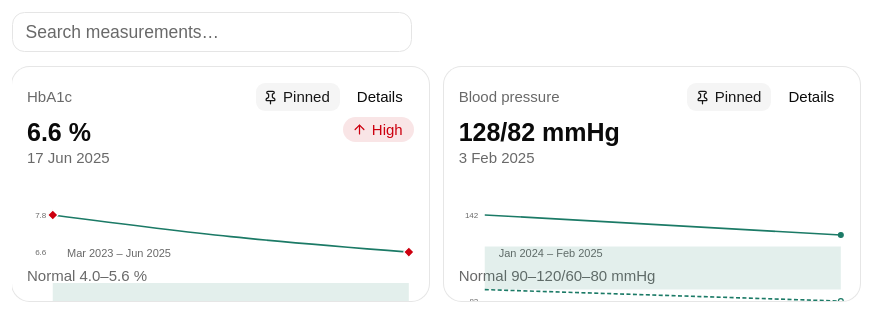
Test case: PatientTrends › pins charts to the overview, keeping the default pins on first use
Later steps or results of the test are not shown.
What coordinates should you click on to do the following:
click the button with aria-label "Pin to overview: HbA1c"
I would click on:
 (298, 97)
Its box is [255, 82, 341, 112].
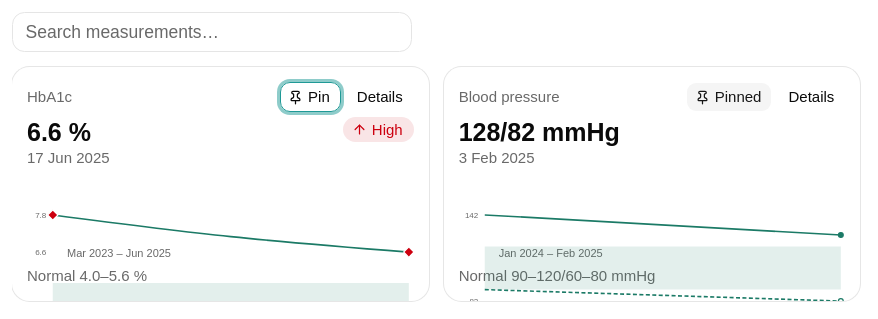
Result: the button with aria-label "Pin to overview: HbA1c" is not pressed at [280, 82, 341, 112]
